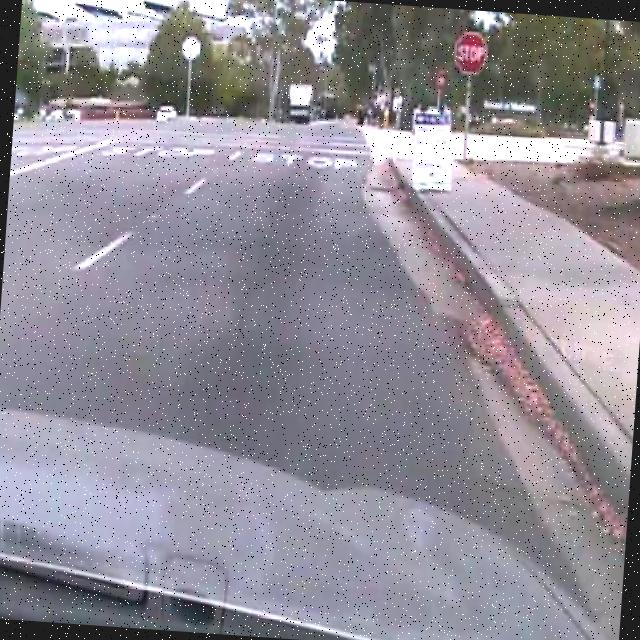Stop: (451, 28, 490, 78)
